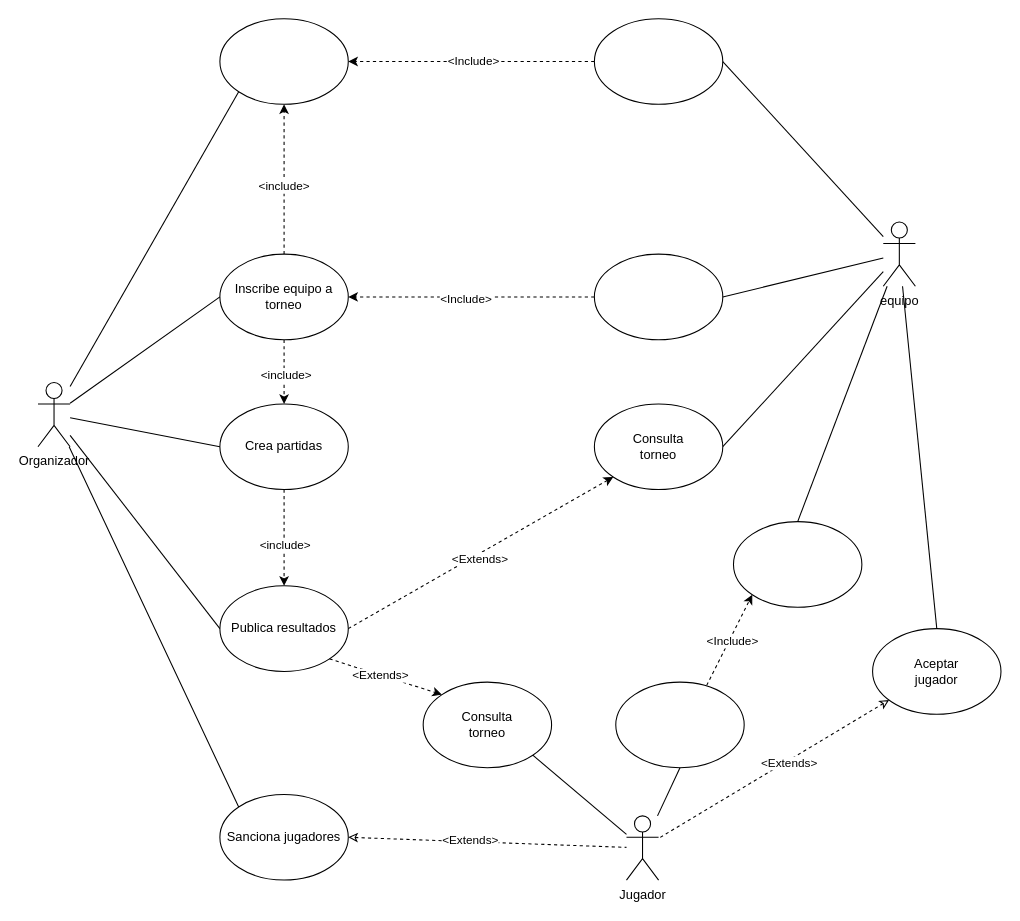
Image size: 1020x921. Some labels were removed from this diagram. Here are the shapes that lost their labels. From the top down, the box of each, then its label:
(219, 18, 348, 104): Crear torneo
(593, 18, 723, 104): Solicitan nuevo torneo
(593, 253, 723, 340): Apuntan a torneo
(732, 521, 862, 607): Aceptar/rechazar jugador
(615, 681, 744, 768): Solicitan pertenecer a equipo
